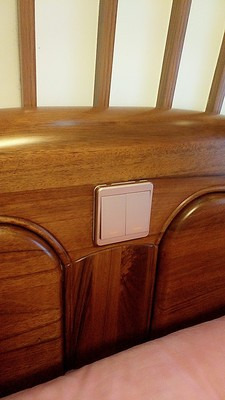switch: (128, 194, 152, 238), (99, 196, 122, 236)
